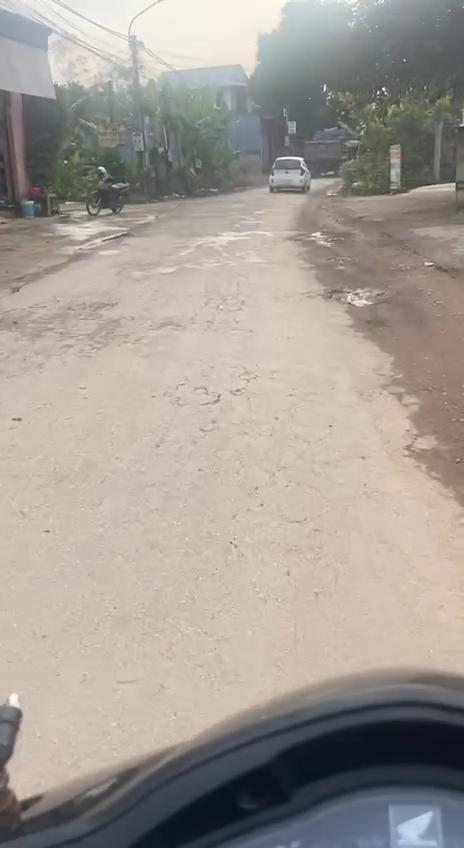pothole: (383, 376, 464, 499), (324, 287, 391, 307), (309, 230, 336, 252)
